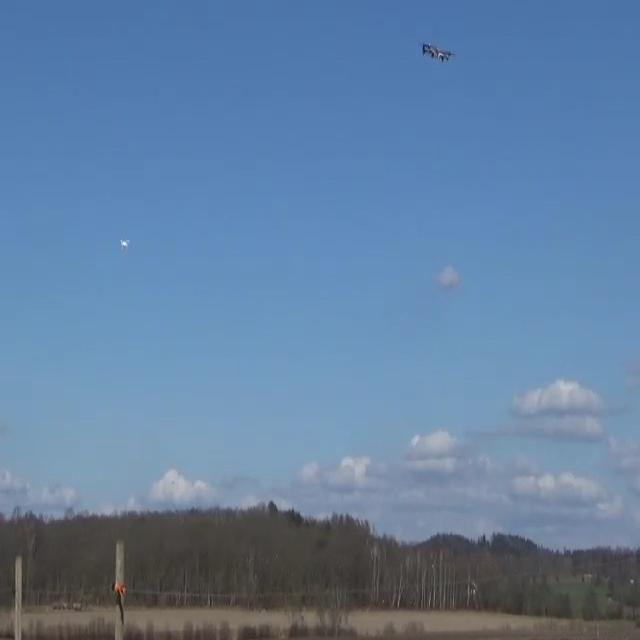drone: (420, 42, 455, 62), (120, 238, 130, 250)
